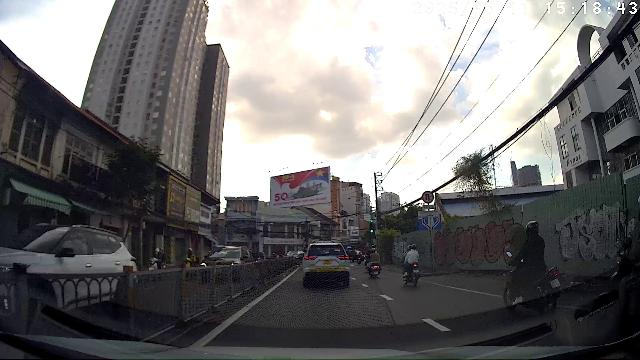124b-cam-oto-quay-dau-xe: (422, 191, 433, 203)
